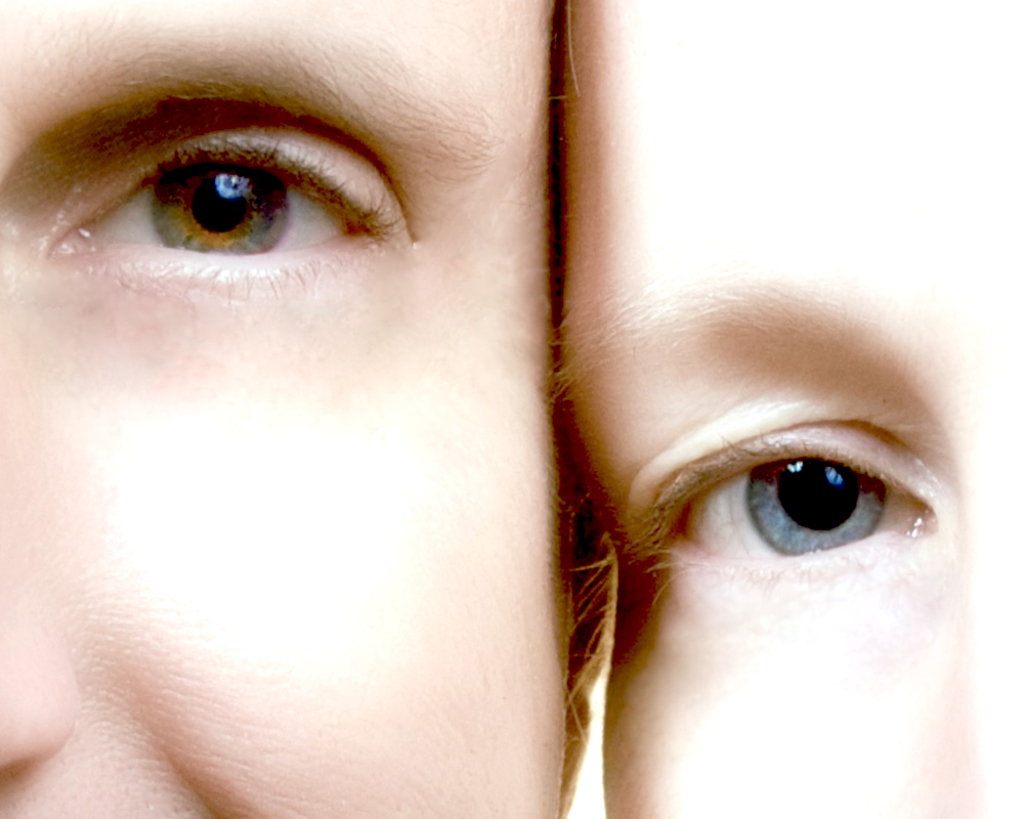Person: (548, 0, 1023, 818)
